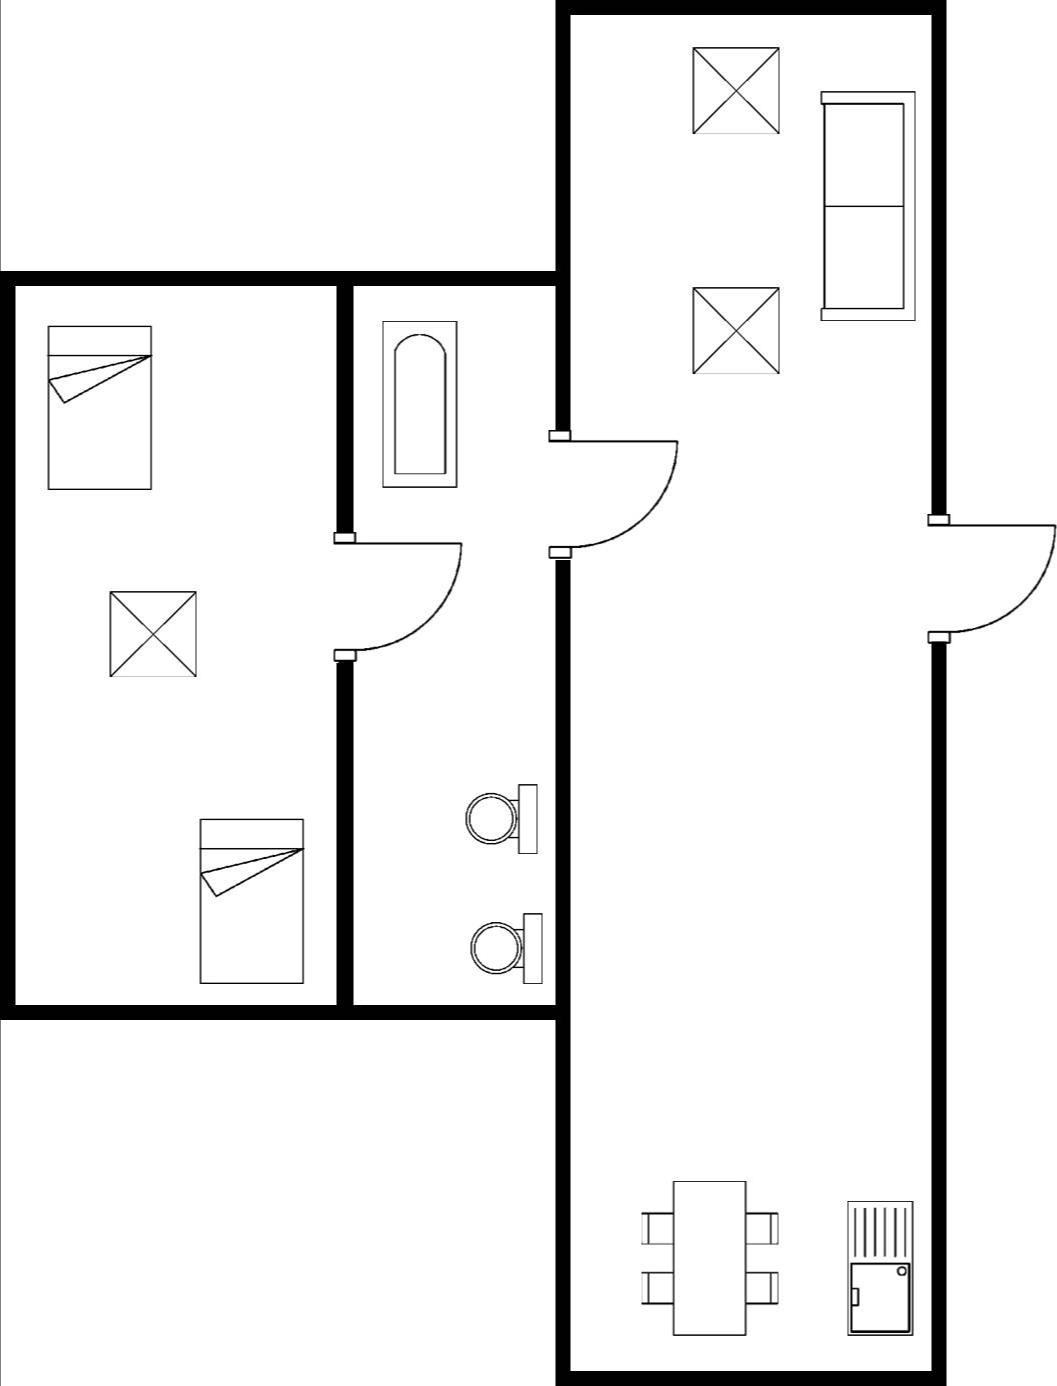bed: (37, 314, 158, 498), (190, 808, 311, 991)
dining_table: (630, 1171, 792, 1350)
sink: (830, 1191, 922, 1345)
sofa: (811, 79, 922, 329)
toilet: (461, 898, 548, 995), (452, 775, 542, 863)
tub: (368, 312, 467, 498)
